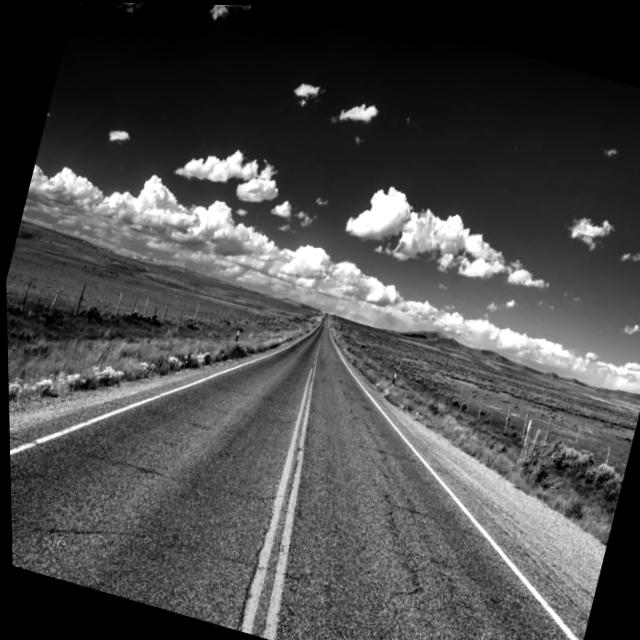cleat: (14, 115, 569, 640)
